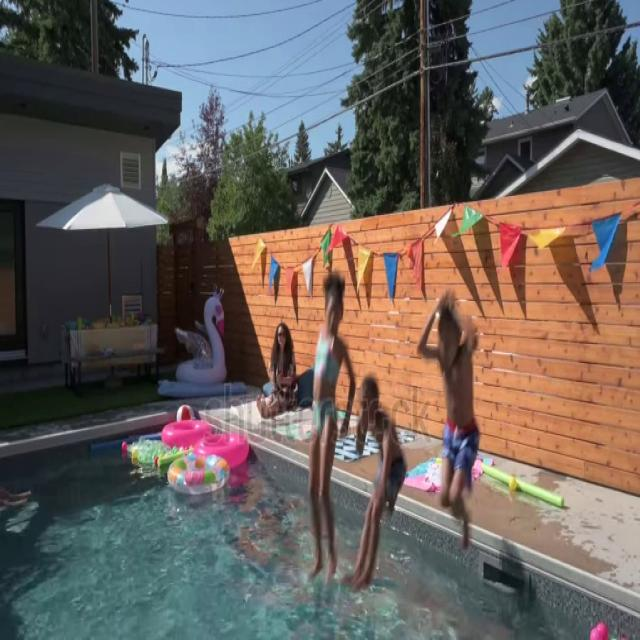adult: (257, 321, 297, 419)
child: (418, 291, 480, 553), (307, 269, 355, 575), (348, 376, 408, 592)
